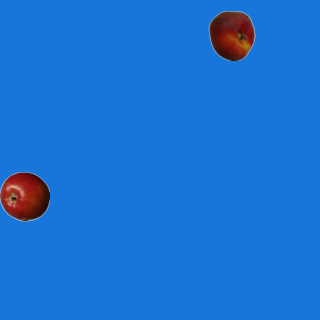Apple Braeburn: (0, 171, 49, 221)
Nectarine Flat: (206, 10, 256, 60)
